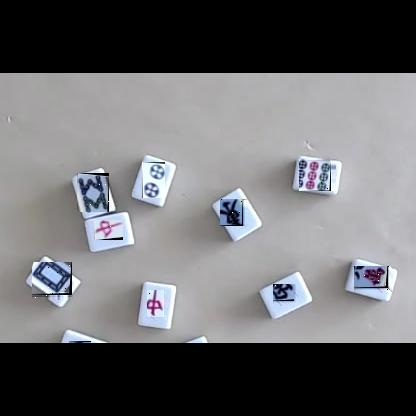1z: (221, 199, 248, 226)
2p: (142, 162, 165, 198)
3z: (274, 285, 299, 306), (69, 341, 91, 343)
5z: (32, 263, 72, 300)
6m: (355, 267, 393, 293)
7z: (148, 291, 168, 321), (94, 220, 123, 240)
8s: (77, 173, 109, 212)
9p: (300, 159, 336, 191)
